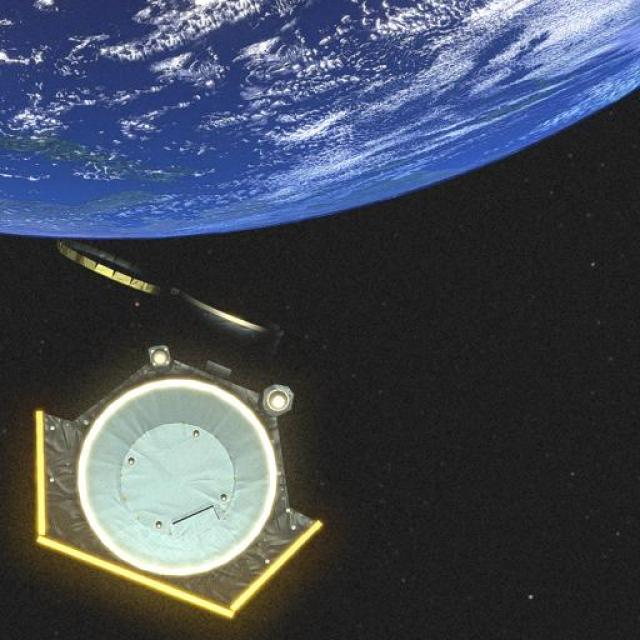cheops: (16, 262, 326, 601)
